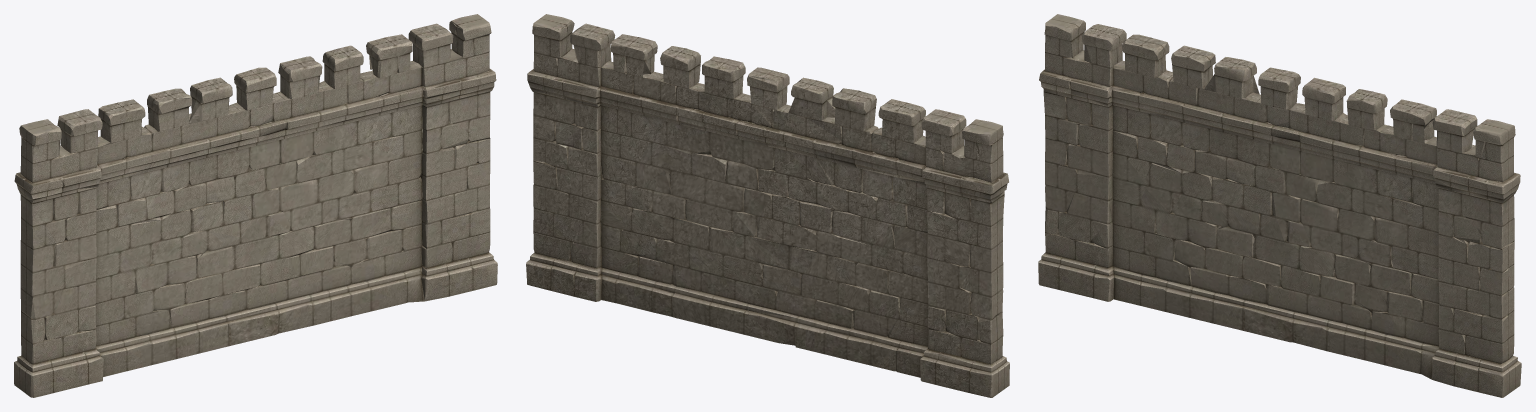
The model's file is wall_segment.glb.
3 views of the same model, side by side, from view 1: azimuth 30°, elevation 25°; view 2: azimuth 150°, elevation 25°; view 3: azimuth 330°, elevation 25° (orthographic).
Parts seen in each view (by area): view 1: output_unwrapped; view 2: output_unwrapped; view 3: output_unwrapped.
Boxes of the visible parts, x1,y1,x2,y2 form: output_unwrapped: [14, 14, 497, 397]; output_unwrapped: [526, 14, 1009, 397]; output_unwrapped: [1038, 14, 1521, 397].
Size of the model in its own units: 1.9 by 1.02 by 0.1349.
Materials: 1 (1 with a texture image).
